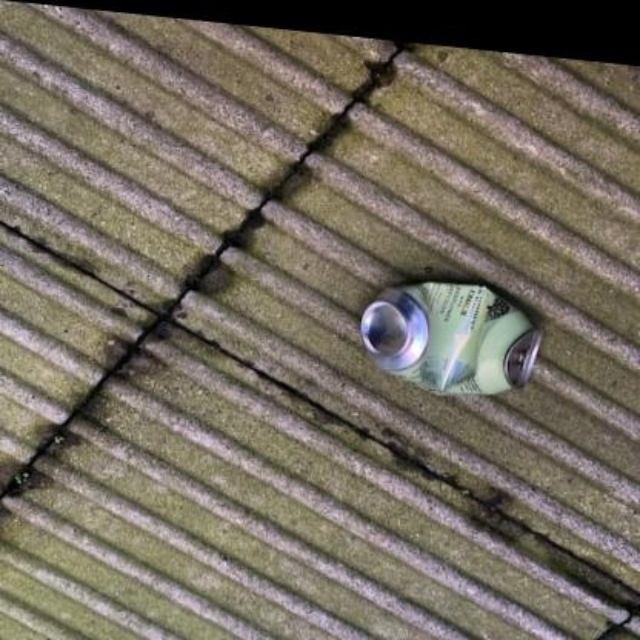trash: (360, 282, 540, 392)
